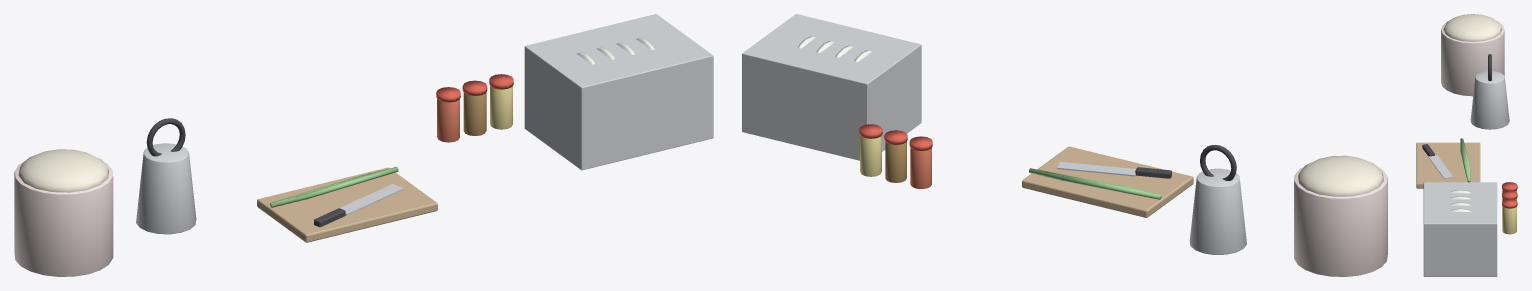
Rendered from v2_kitchen_clutter.fbx.
3 renders of one model, left to right at view 1: azimuth 30°, elevation 25°; view 2: azimuth 150°, elevation 25°; view 3: azimuth 270°, elevation 25°, orthographic. The views are drawn at different scales.
Visible parts, largest first — view 1: DishRack, RiceCooker, Board.001, Kettle, CookerLid, SpiceJar.001, SpiceJar.002, SpiceJar, Knife, KettleHandle, Scallion.004; view 2: DishRack, RiceCooker, Board.001, Kettle, CookerLid, SpiceJar.002, SpiceJar.001, SpiceJar, Knife, Scallion, KettleHandle; view 3: DishRack, RiceCooker, Board.001, Kettle, CookerLid, SpiceJar.002, Knife, SpiceLid.002, SpiceLid.001, SpiceLid, KettleHandle, KnifeHandle (+4 smaller).
Boxes of the visible parts, x1,y1,x2,y2 form: DishRack: (524,14,713,170); RiceCooker: (14,160,113,276); Board.001: (257,167,437,242); Kettle: (136,143,196,234); CookerLid: (18,149,108,192); SpiceJar.001: (463,92,486,135); SpiceJar.002: (490,86,512,129); SpiceJar: (437,99,459,142); Knife: (339,184,403,215); KettleHandle: (146,118,185,156); Scallion.004: (304,166,398,199); DishRack: (742,14,921,160); RiceCooker: (1294,166,1387,276); Board.001: (1022,146,1193,217); Kettle: (1189,168,1246,254); CookerLid: (1298,155,1383,196); SpiceJar.002: (860,135,881,176); SpiceJar.001: (885,142,906,182); SpiceJar: (910,148,931,188); Knife: (1057,162,1135,176); Scallion: (1060,176,1161,199); KettleHandle: (1200,145,1236,180); DishRack: (1423,182,1497,276); RiceCooker: (1441,22,1504,96); Board.001: (1416,142,1480,188); Kettle: (1470,71,1509,129); CookerLid: (1443,14,1502,41); SpiceJar.002: (1502,206,1516,234); Knife: (1428,155,1453,178); SpiceLid.002: (1502,198,1517,208); SpiceLid.001: (1502,190,1517,199); SpiceLid: (1502,182,1517,190); KettleHandle: (1488,54,1491,81); KnifeHandle: (1422,144,1434,156).
Bounding box in the file's own units: 1.98 × 0.298 × 0.412.
